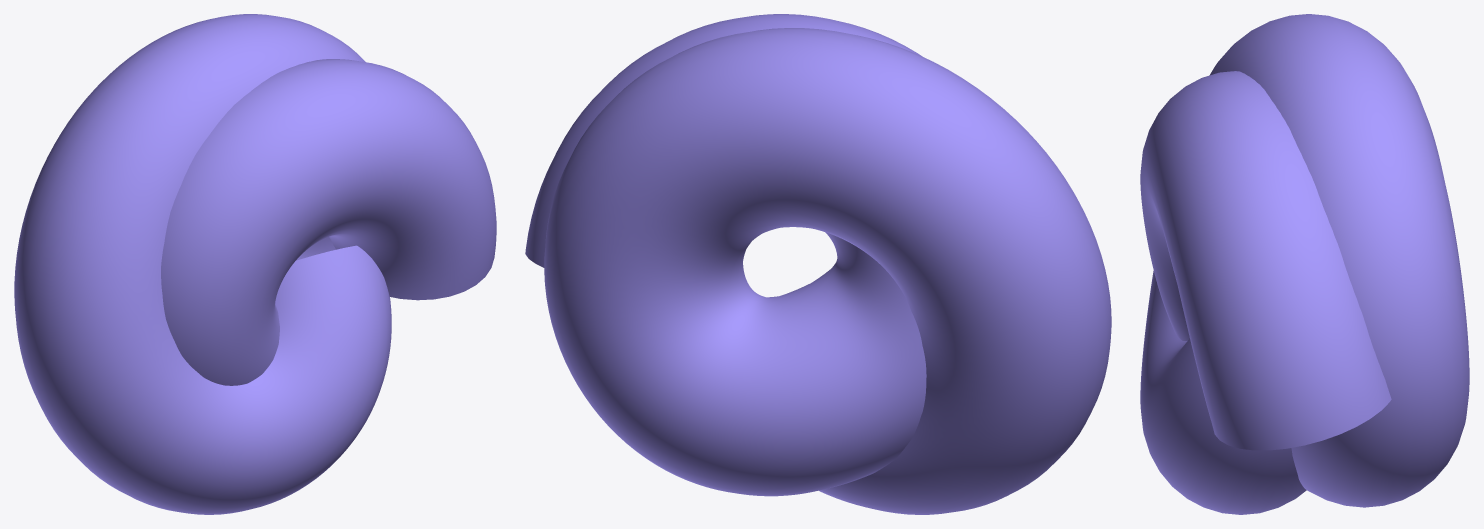
3 views of the same model, side by side, from view 1: azimuth 30°, elevation 25°; view 2: azimuth 150°, elevation 25°; view 3: azimuth 270°, elevation 25° (orthographic). The views are drawn at different scales.
Bounding box in the file's own units: 2.12 × 1.85 × 1.18.
